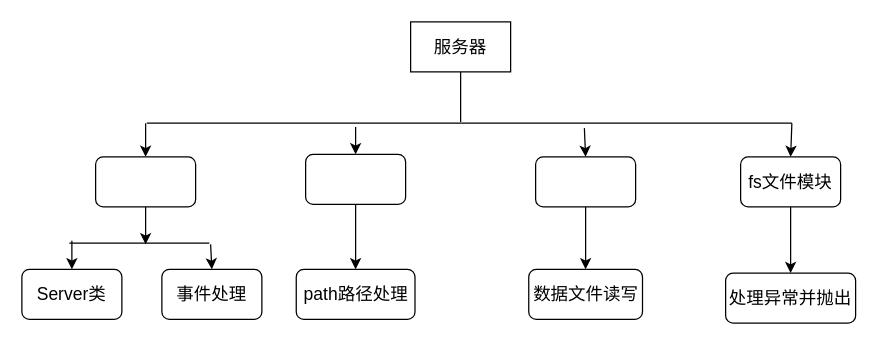
This 878x345 diagram has some shape labels left out. Here are the shapes that lost their labels. From the top down, the centre of each, then its label:
At pixel 145 181: "HTTP模块".
At pixel 355 178: "URL模块".
At pixel 585 181: "Error模块".
